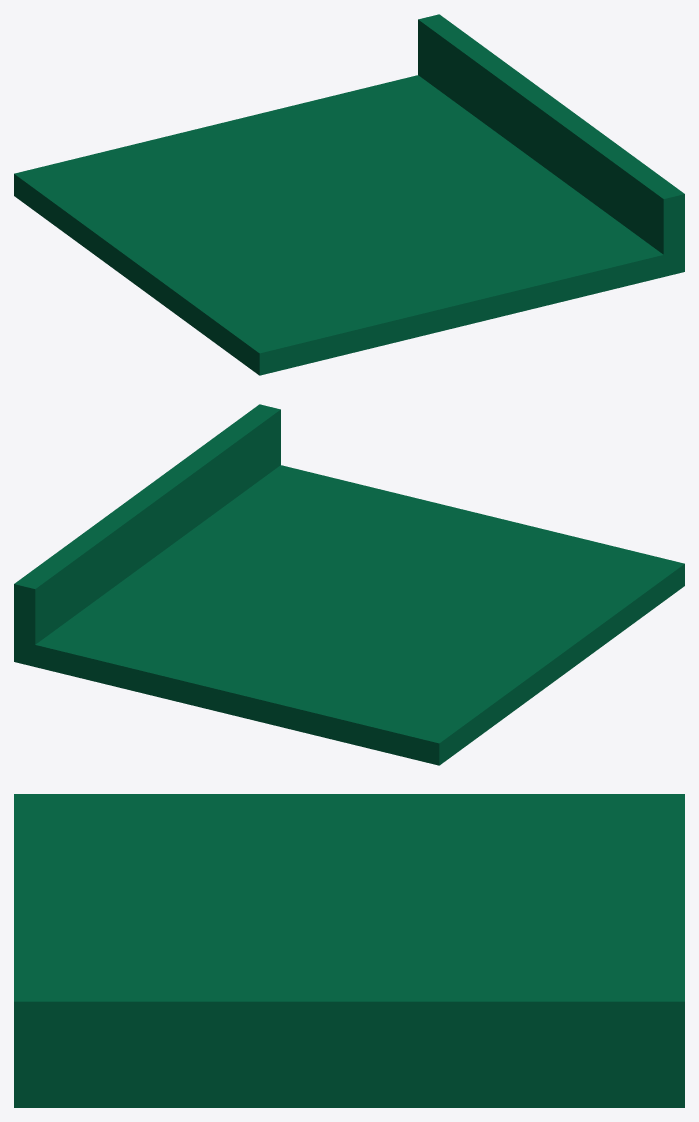
The model's file is GreenRoof_1Edge.glb.
3 renders of one model, top to bottom at view 1: azimuth 30°, elevation 25°; view 2: azimuth 150°, elevation 25°; view 3: azimuth 270°, elevation 25°, orthographic. The views are drawn at different scales.
Parts seen in each view (by area): view 1: roof_flat_1Edge_green; view 2: roof_flat_1Edge_green; view 3: roof_flat_1Edge_green.
Boxes of the visible parts, x1,y1,x2,y2 form: roof_flat_1Edge_green: [14, 14, 684, 375]; roof_flat_1Edge_green: [14, 404, 684, 765]; roof_flat_1Edge_green: [14, 794, 684, 1107].
Size of what is drawn, in the model's own units: 4 by 0.7 by 4.
1 material, 1 textured.
